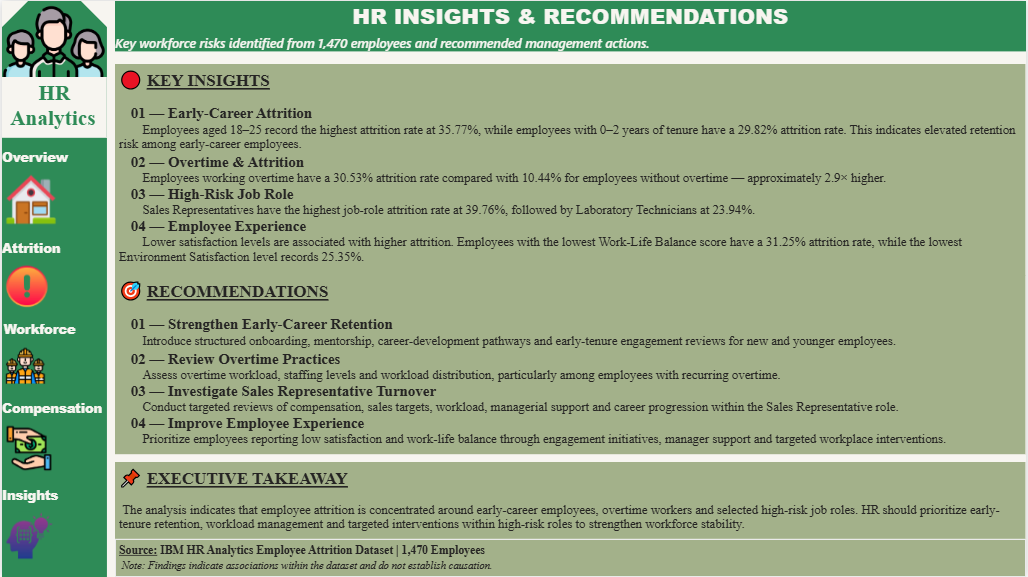

The dashboard page shown, as its layout file describes it:
{"tool":"powerbi","page":{"name":"Insights & Recommendations","canvas":[1280,720],"ordinal":4},"visuals":[{"type":"shape","title":"HR INSIGHTS & RECOMMENDATIONS ","box":[141.2,0,1138.8,62.5],"z":0},{"type":"textbox","box":[141.8,78.5,1138.2,264.3],"z":1000},{"type":"textbox","box":[141.8,342.7,1138.2,224.3],"z":2000},{"type":"textbox","box":[141.2,672.5,1138.8,47.5],"z":3000},{"type":"textbox","box":[141.8,576.7,1138.2,96.3],"z":4000},{"type":"shape","box":[0,0,131.2,720],"z":5000},{"type":"actionButton","title":"Overview","box":[0,183.2,85.2,100.5],"z":6000},{"type":"actionButton","title":"Insights","box":[0,605.6,94.2,96.7],"z":7000},{"type":"actionButton","title":"Compensation","box":[0,497.5,129.8,95.4],"z":8000},{"type":"actionButton","title":"Workforce","box":[0,398.3,94.2,86.5],"z":9000},{"type":"actionButton","title":"Attrition ","box":[0,297.7,84,90.3],"z":10000},{"type":"image","box":[0,0,131.1,105.6],"z":11000},{"type":"textbox","box":[0,95.4,131.1,76.3],"z":12000}]}

Visuals, with their boxes in screenshot pixels (x1, y1, x2, y2), scaled from the page's 1280x720 canvas onto the 1028x577 screenshot:
"HR INSIGHTS & RECOMMENDATIONS " shape: bbox=[113, 0, 1027, 50]
textbox: bbox=[114, 63, 1027, 275]
textbox: bbox=[114, 275, 1027, 454]
textbox: bbox=[113, 539, 1027, 576]
textbox: bbox=[114, 462, 1027, 539]
shape: bbox=[0, 0, 105, 576]
"Overview" actionButton: bbox=[0, 147, 68, 227]
"Insights" actionButton: bbox=[0, 485, 76, 563]
"Compensation" actionButton: bbox=[0, 399, 104, 475]
"Workforce" actionButton: bbox=[0, 319, 76, 389]
"Attrition " actionButton: bbox=[0, 239, 67, 311]
image: bbox=[0, 0, 105, 85]
textbox: bbox=[0, 76, 105, 138]
